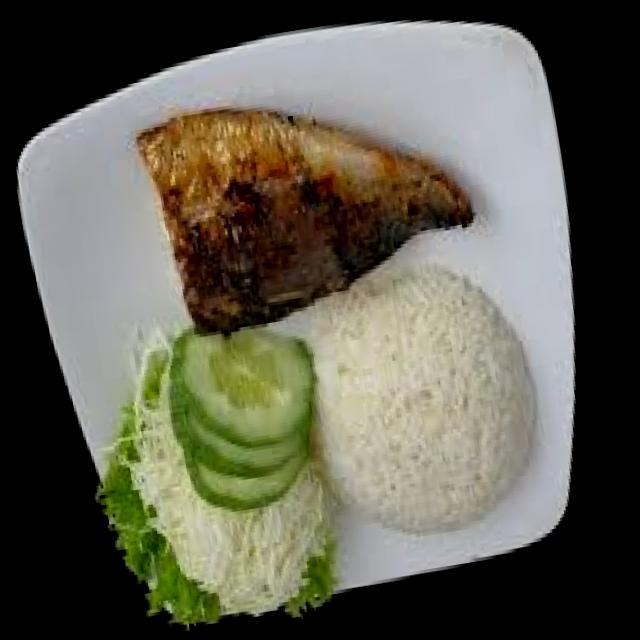ca chien: (142, 112, 473, 334)
com: (303, 270, 535, 532)
dua leo: (170, 334, 315, 512)
rau: (101, 353, 339, 627)
